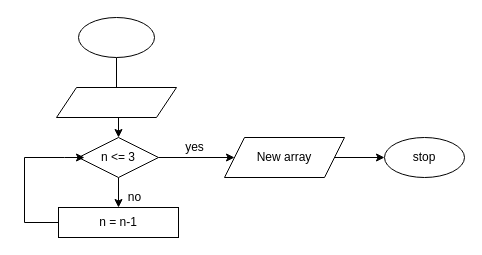
Image size: 482x255. Some labels were removed from this diagram. The box of each missing label's shape, as (x1, y1, x2, y2) in pixels:
Enter Array = n: (56, 86, 176, 118)
start: (78, 16, 154, 58)
